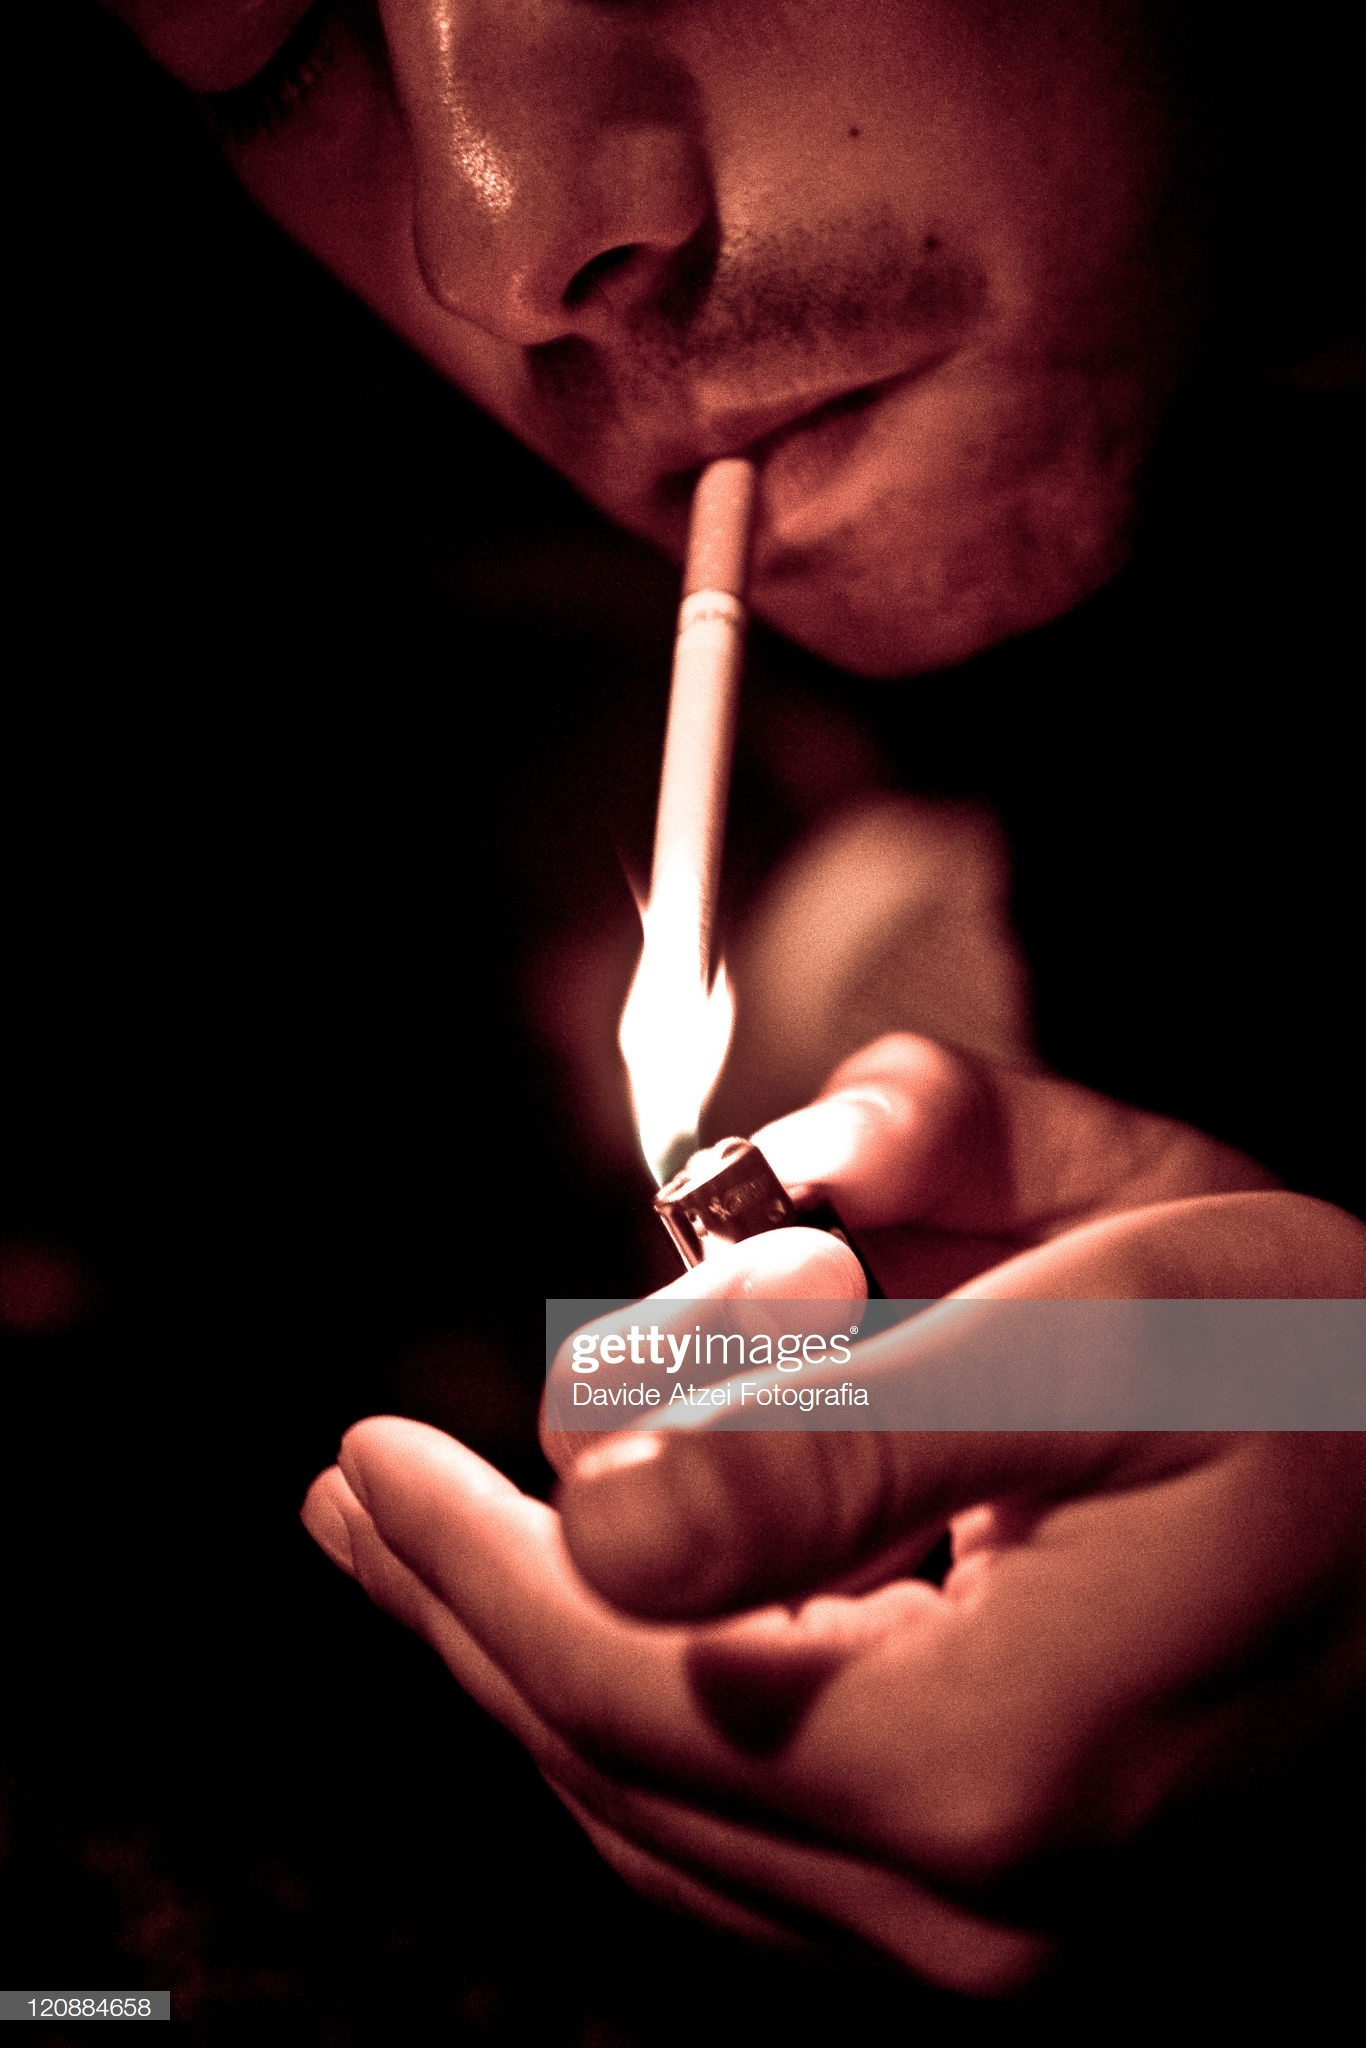sigaretta: (622, 395, 778, 1010)
